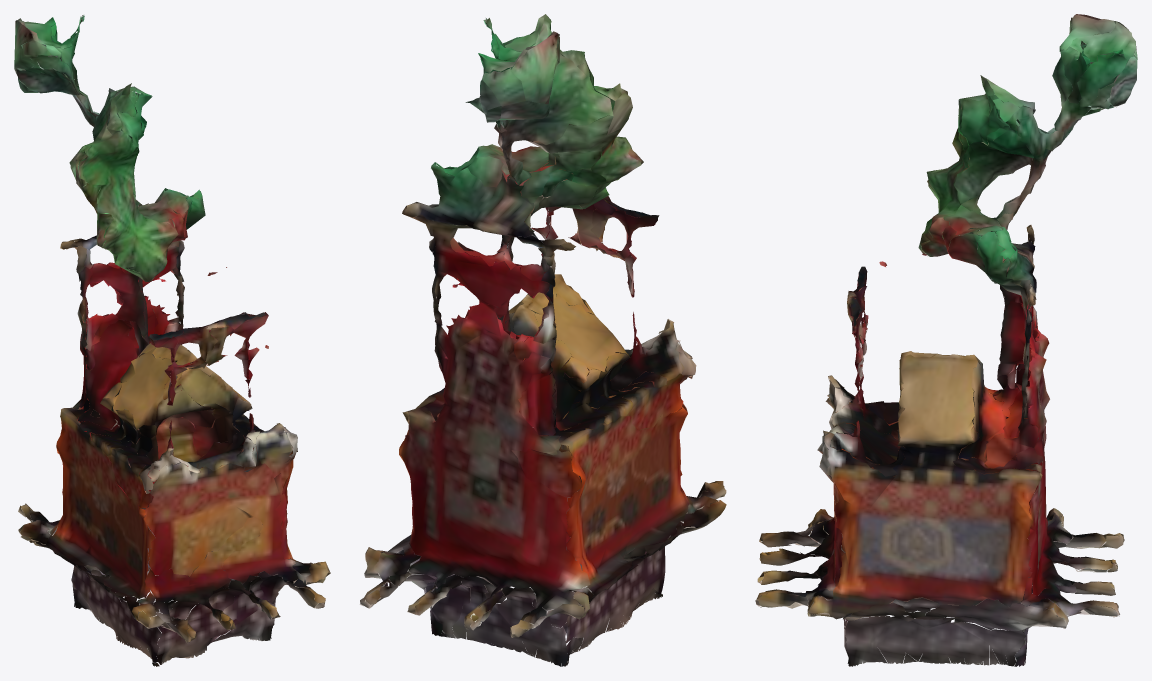
File: 油天神山.glb
3 views of the same model, side by side, from view 1: azimuth 30°, elevation 25°; view 2: azimuth 150°, elevation 25°; view 3: azimuth 270°, elevation 25° (orthographic). The views are drawn at different scales.
Visible parts, largest first — view 1: mesh; view 2: mesh; view 3: mesh.
Part boxes in pixels (x1=…): mesh: x1=14, y1=15, x2=330, y2=666; mesh: x1=359, y1=14, x2=726, y2=666; mesh: x1=755, y1=14, x2=1137, y2=666.
Bounding box in the file's own units: 3.64 × 10.06 × 5.94.
Materials: 1 (1 with a texture image).
